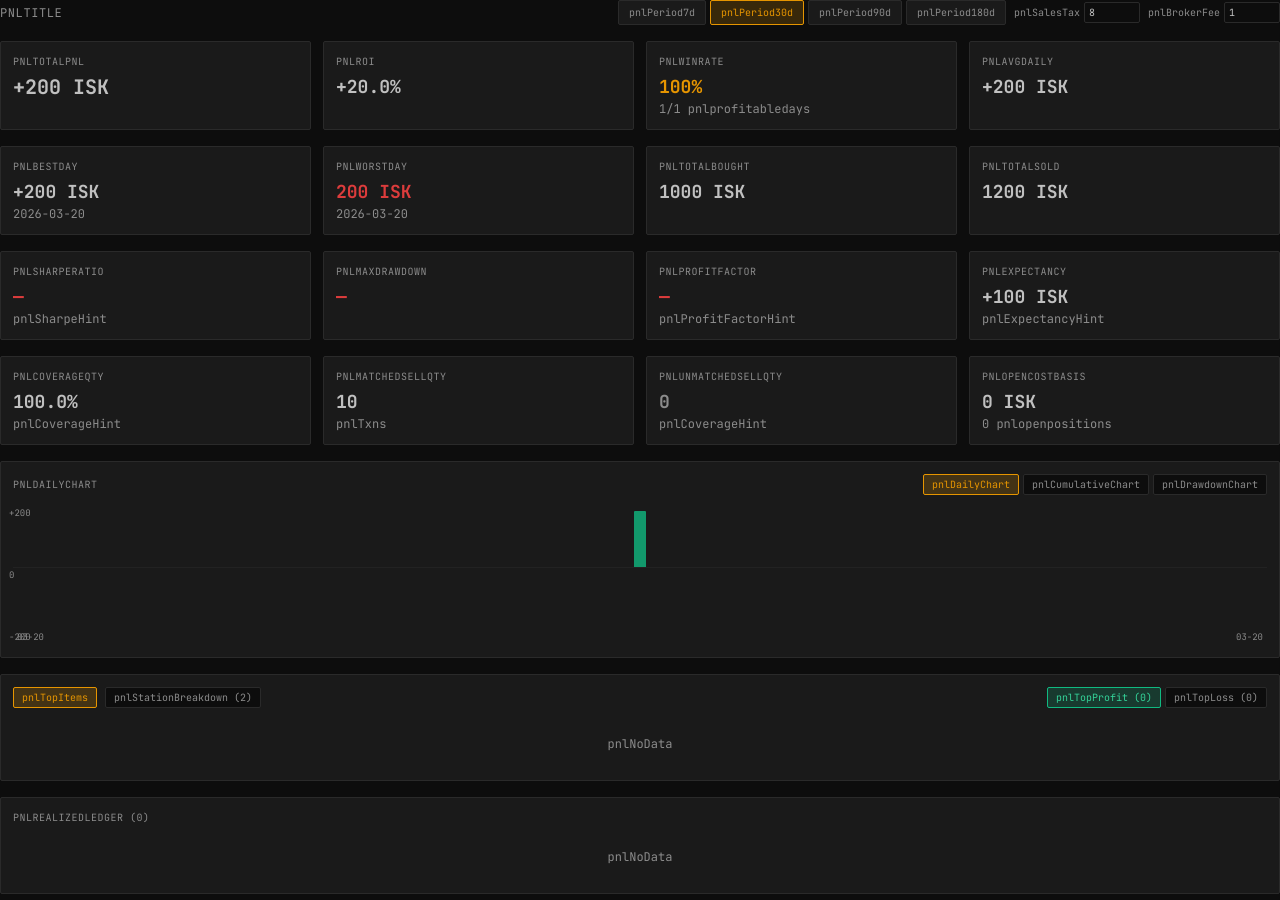
Scenario: PnLTab station table › renders resolved station names and only falls back to #id when unavailable
The image size is (1280, 900).
Click the button "pnlStationBreakdown (2)" at (183, 697), box 105,686 -> 261,708
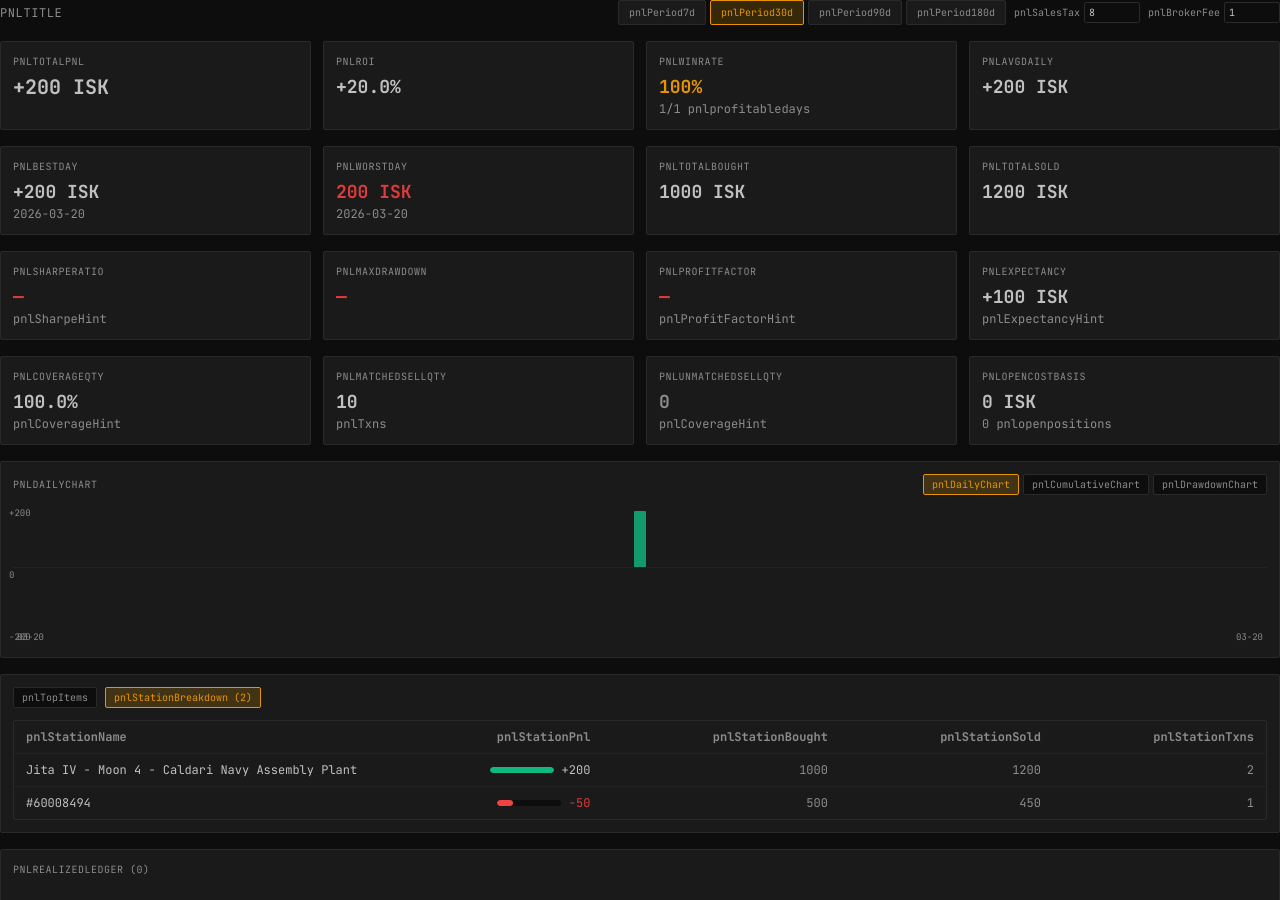
Check: the text "Jita IV - Moon 4 - Caldari Navy Assembly Plant" is shown, box 14,753 -> 389,786
Check: the text "#60008494" is shown, box 14,786 -> 389,818
